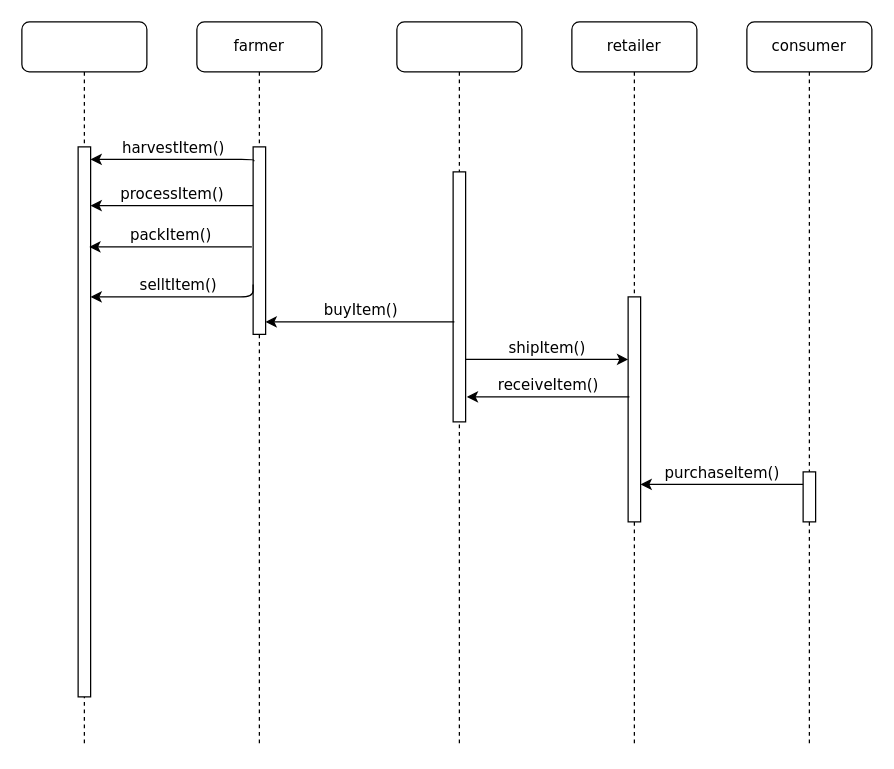
Image size: 894x769. Some labels were removed from this diagram. The shapes that lost their labels are listed below. From the top down, each one's box as (x1, y1, x2, y2) in pixels, then its label:
(21, 21, 147, 747): coffee
(396, 21, 522, 747): distributor
